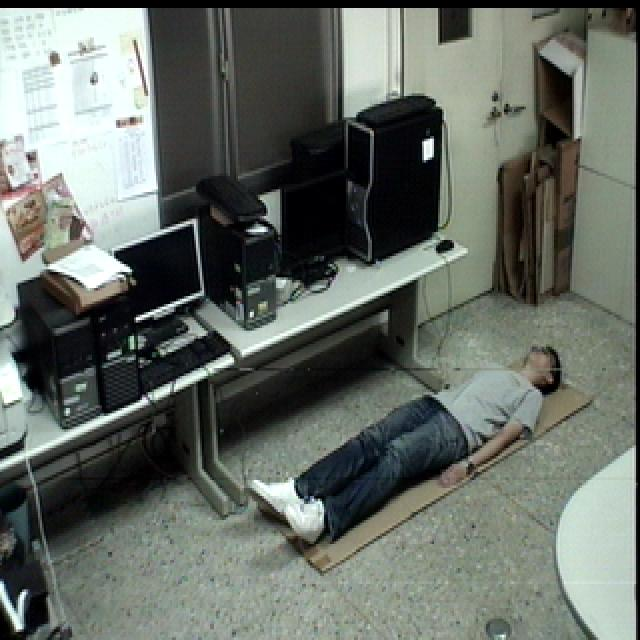lie: (237, 338, 575, 561)
